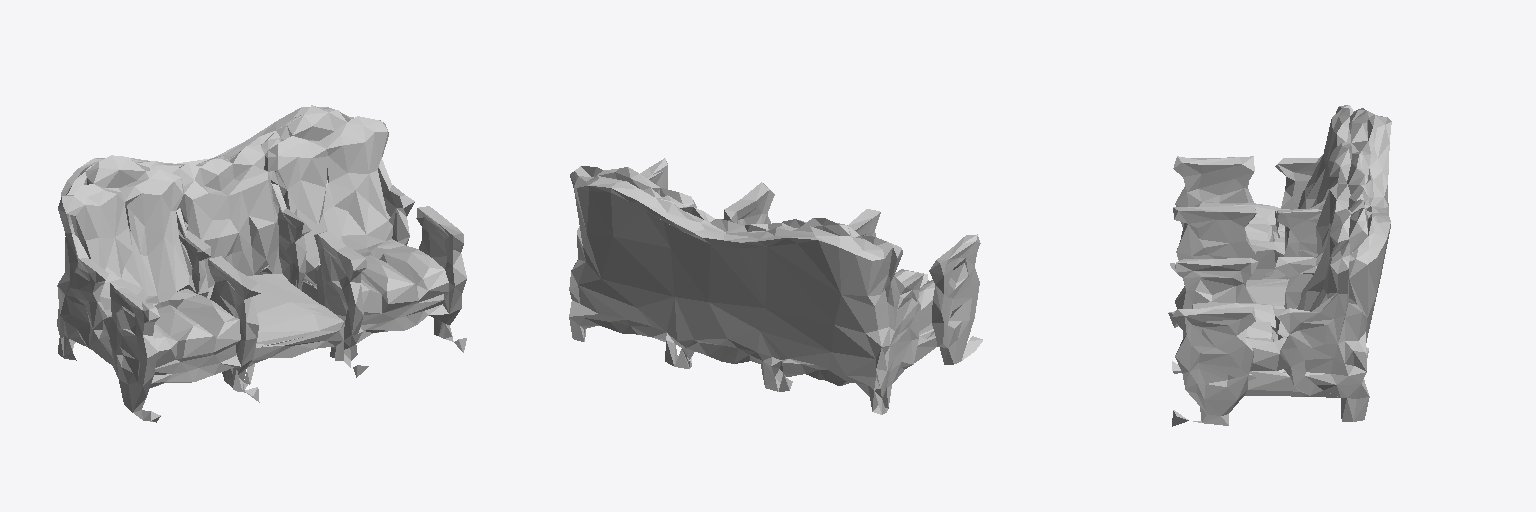
File: floor seating.obj
3 renders of one model, left to right at view 1: azimuth 30°, elevation 25°; view 2: azimuth 150°, elevation 25°; view 3: azimuth 270°, elevation 25°, orthographic.
Parts seen in each view (by area): view 1: Meshy_AI_balcoy_theater_seatin_[number redacted]_texture; view 2: Meshy_AI_balcoy_theater_seatin_[number redacted]_texture; view 3: Meshy_AI_balcoy_theater_seatin_[number redacted]_texture.
Part boxes in pixels (left/top/right/bottom): Meshy_AI_balcoy_theater_seatin_[number redacted]_texture: left=57, top=105, right=466, bottom=422; Meshy_AI_balcoy_theater_seatin_[number redacted]_texture: left=569, top=158, right=982, bottom=414; Meshy_AI_balcoy_theater_seatin_[number redacted]_texture: left=1168, top=105, right=1391, bottom=426.
Bounding box in the file's own units: 35.64 × 20 × 21.05.